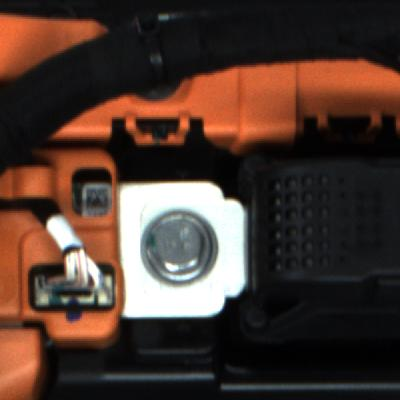nut_b: (136, 205, 218, 295)
